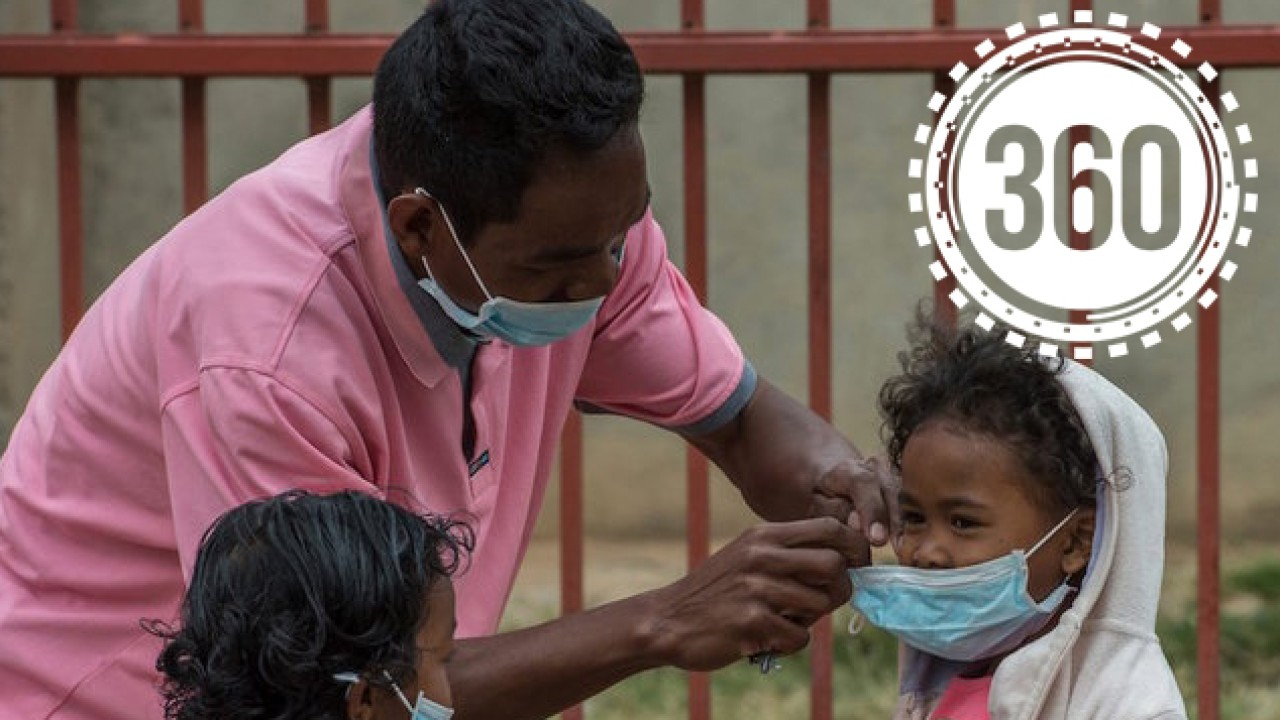mask_weared_incorrect: (396, 146, 657, 340), (867, 467, 1087, 658)
